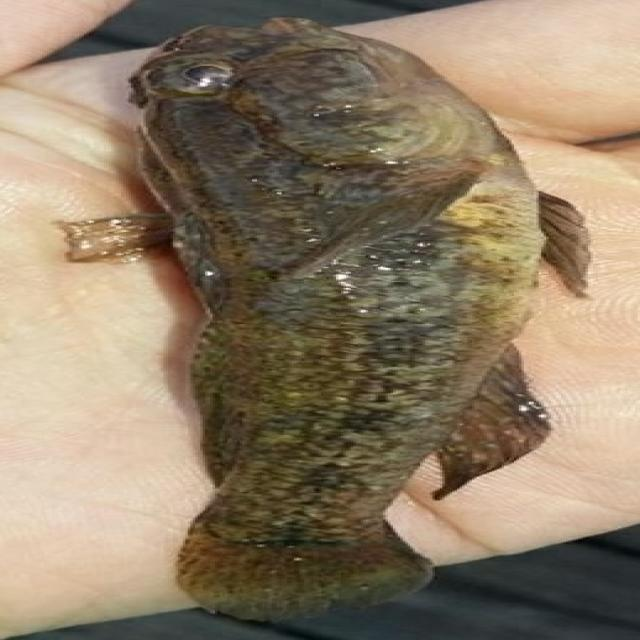Goby: (54, 0, 620, 619)
